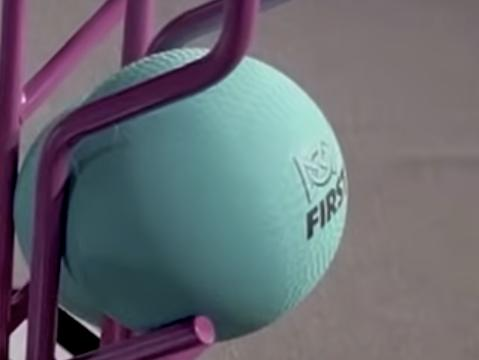algae: (14, 49, 348, 346)
